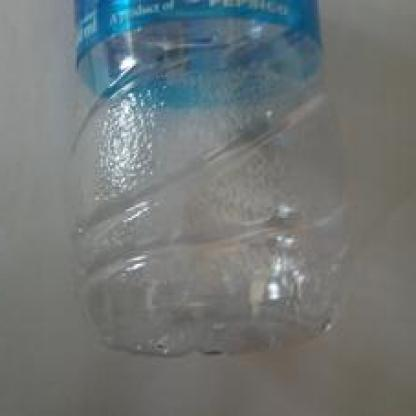bottle: (43, 0, 358, 370)
